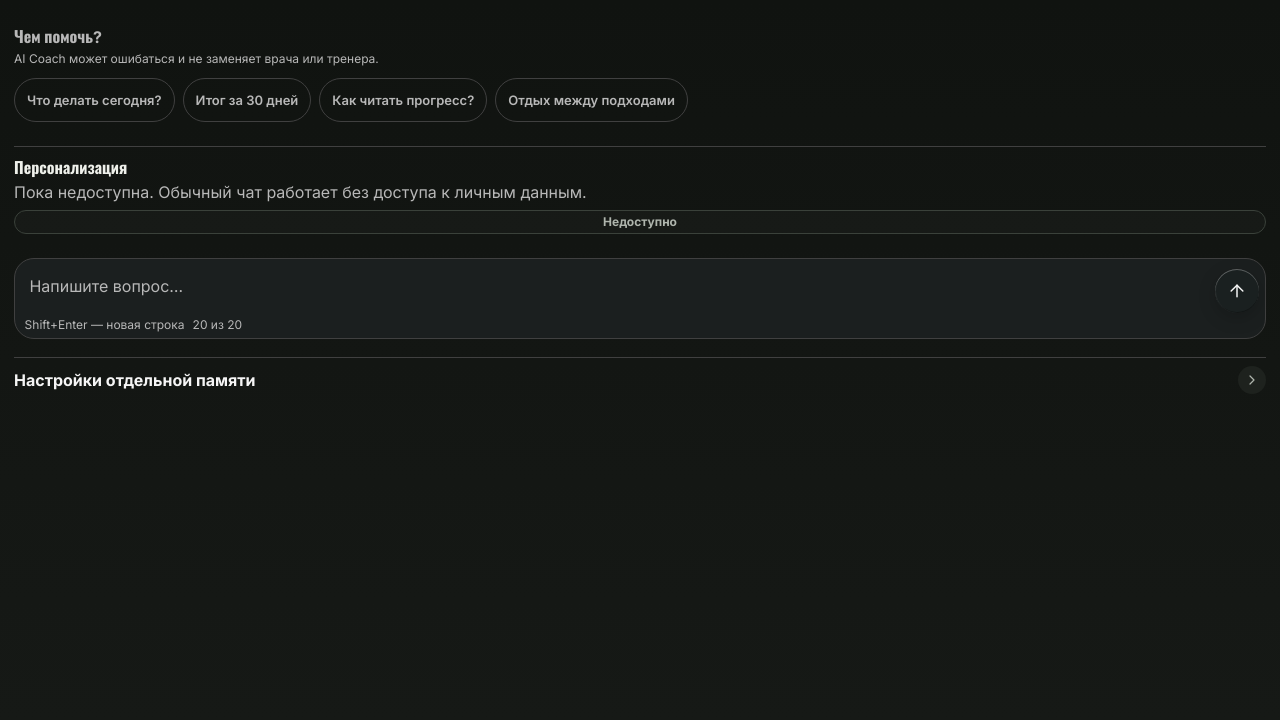
Test: AiCoachExperience › preserves typed text and shows a repair failure separately from safety refusal
Type "Объясни мне этот материал." into the text box named "Сообщение AI Coach" at [614, 289], box [21,265,1207,313]
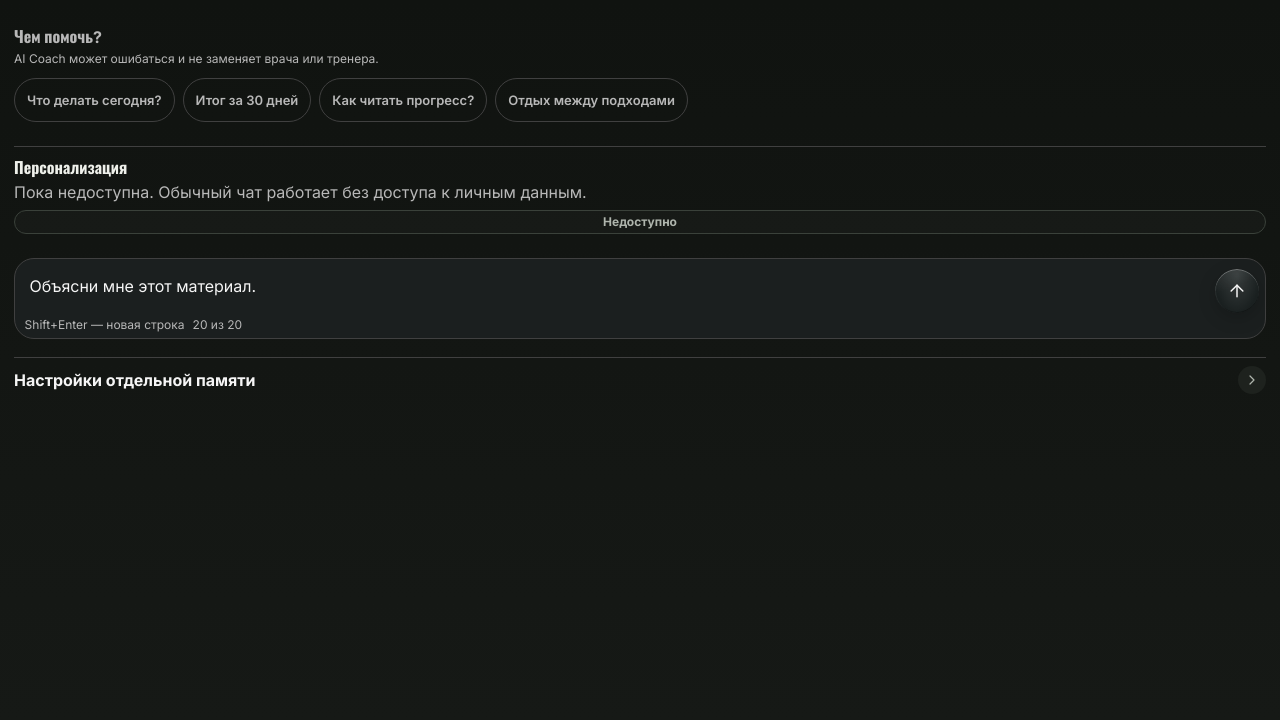
Click the button named "Отправить" at [1237, 291], box [1215,269,1259,313]
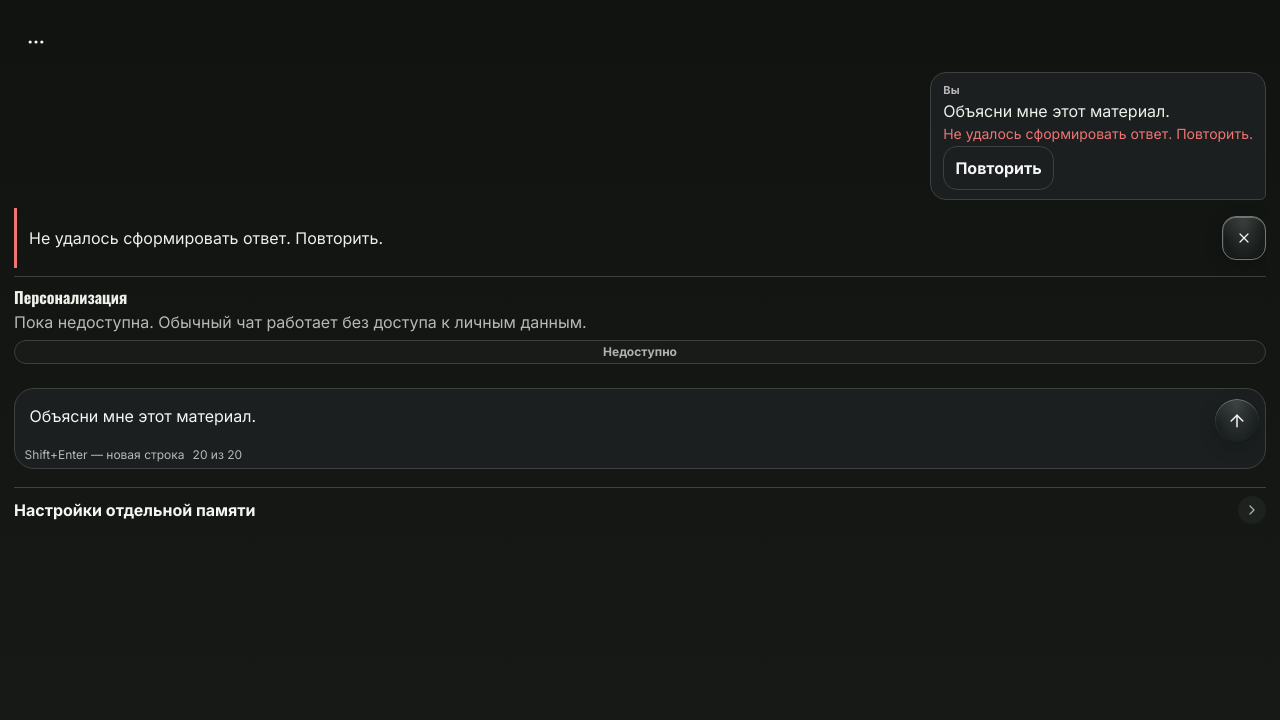
Expected: the message with test id "ai-coach-chat-failure" is shown, [14,208,1266,268]
Expected: the text "Не удалось сформировать ответ. Повторить." is shown, [29,228,383,248]
Click the button "Повторить" at [999, 168], box [943,146,1054,190]
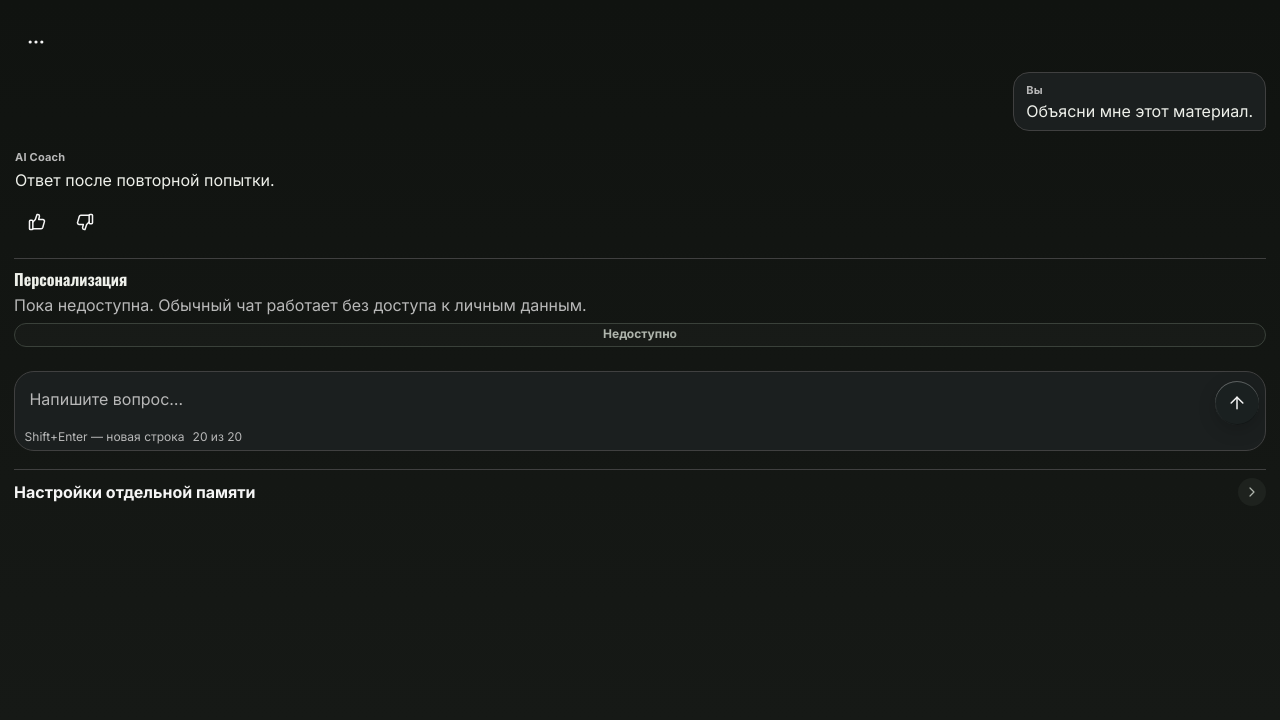
Expected: the number of elements with test id "ai-coach-message-user" is 1, [1013,72,1266,131]
Expected: the text "Ответ после повторной попытки." is shown, [15,170,275,190]
Expected: the number of elements with test id "ai-coach-message-assistant" is 1, [15,150,275,244]
